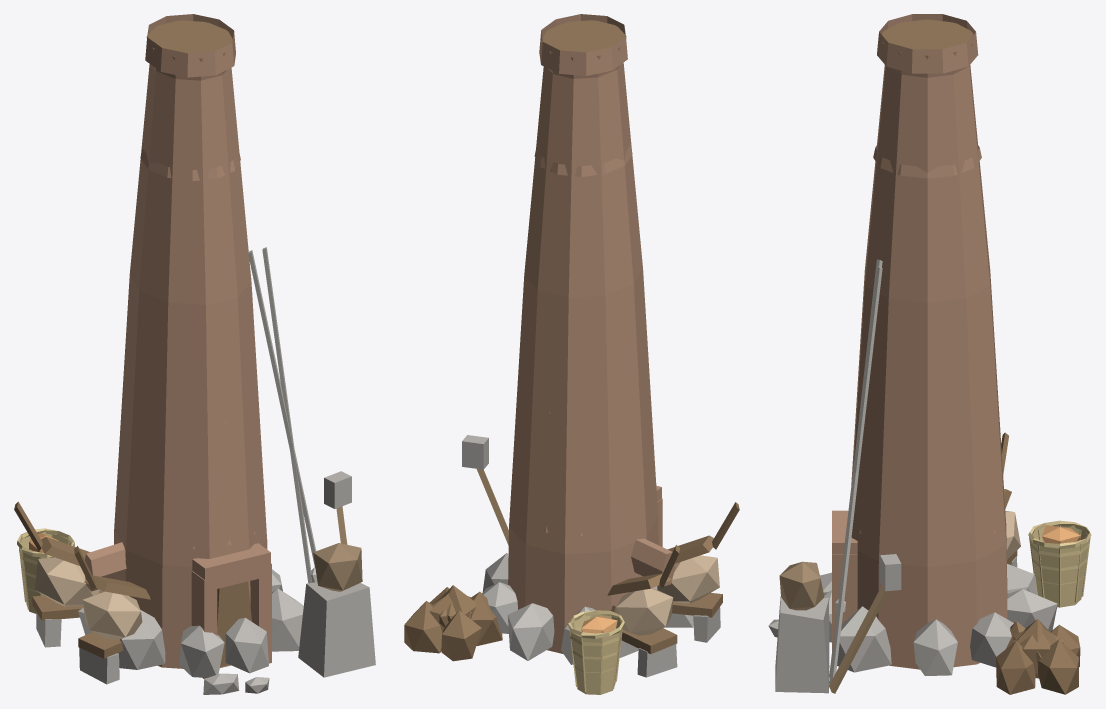
Rendered from building_bloomery_complete.glb.
3 views of the same model, side by side, from view 1: azimuth 30°, elevation 25°; view 2: azimuth 150°, elevation 25°; view 3: azimuth 270°, elevation 25° (orthographic). The views are drawn at different scales.
Parts seen in each view (by area): view 1: building_bloomery_complete; view 2: building_bloomery_complete; view 3: building_bloomery_complete.
Part boxes in pixels (left/top/right/bottom): building_bloomery_complete: left=14, top=14, right=375, bottom=694; building_bloomery_complete: left=404, top=14, right=739, bottom=694; building_bloomery_complete: left=768, top=14, right=1091, bottom=694.
Bounding box in the file's own units: 1 × 2.07 × 1.
